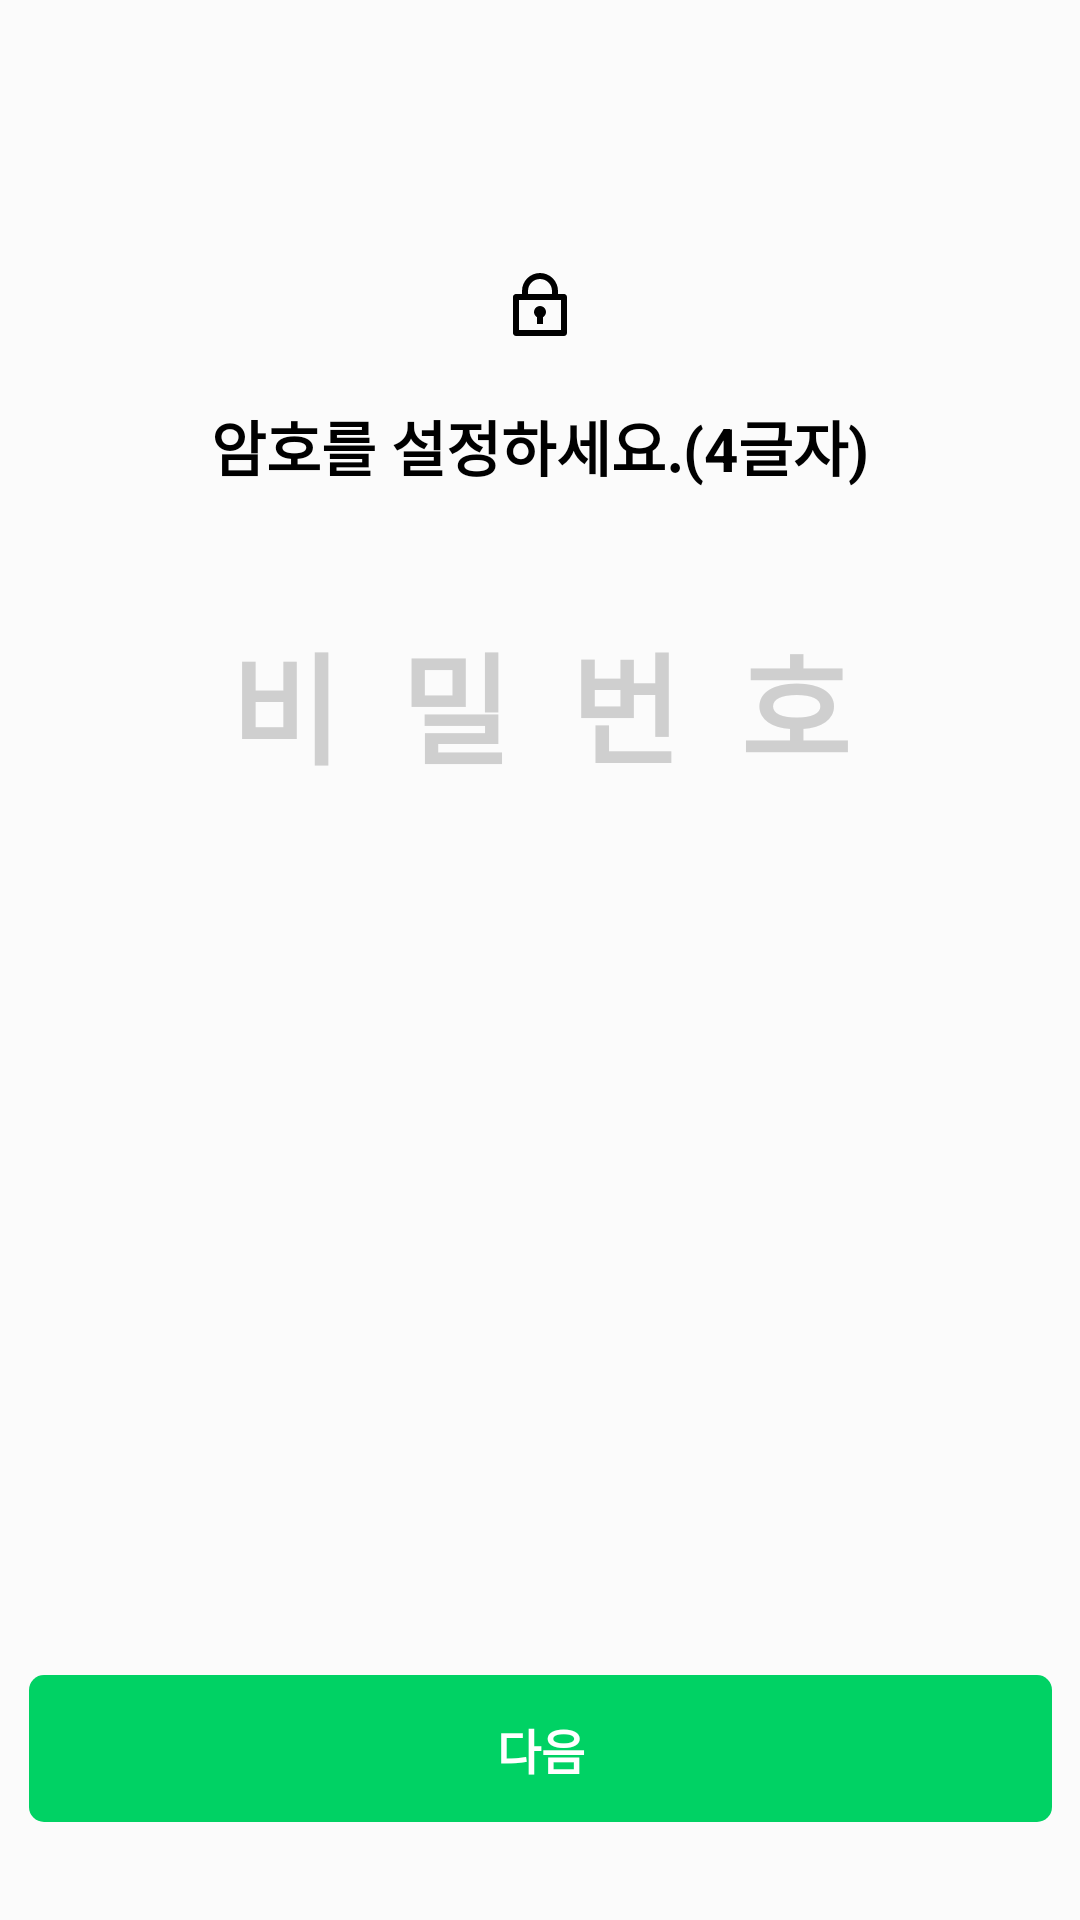

Icon bounding boxes for this 1080 x 1920 phone screenshot, format (x1, y1, x2, y2):
lock: (513, 273, 567, 336)
